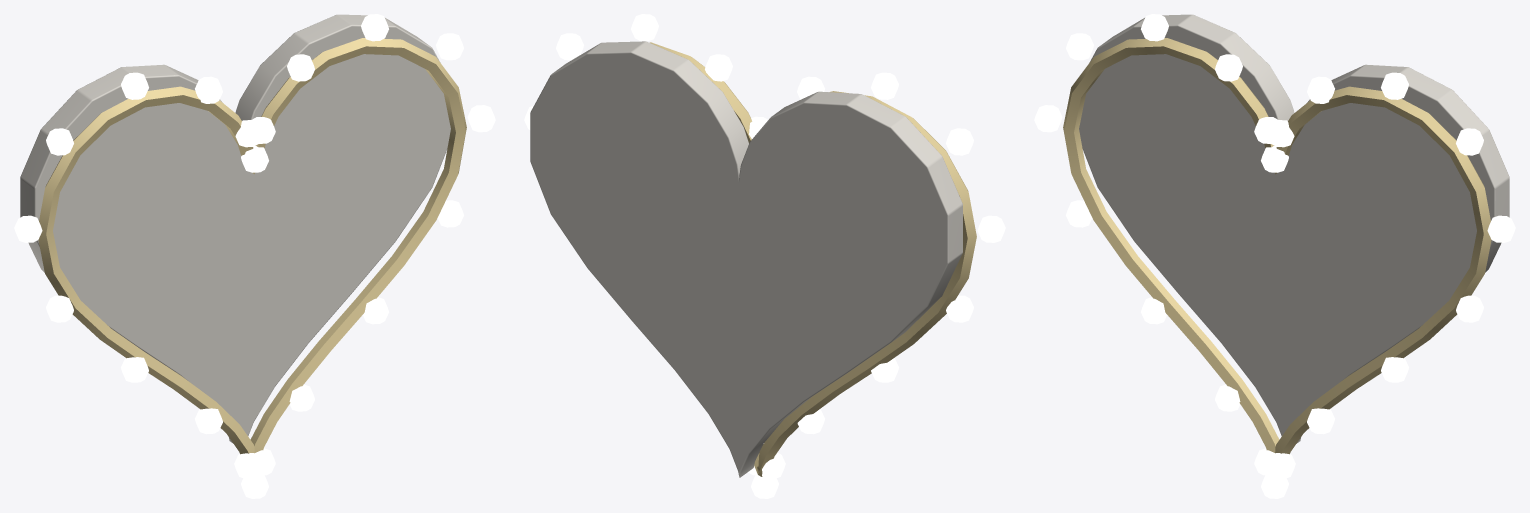
File: sign_marquee_heart.glb
The picture shows the model from 3 angles, left to right: view 1: azimuth 30°, elevation 25°; view 2: azimuth 150°, elevation 25°; view 3: azimuth 330°, elevation 25°; orthographic projection.
Parts seen in each view (by area): view 1: sign_marquee_heart; view 2: sign_marquee_heart; view 3: sign_marquee_heart.
Boxes of the visible parts, left/top/right/bottom form: sign_marquee_heart: left=14, top=14, right=495, bottom=498; sign_marquee_heart: left=524, top=14, right=1005, bottom=498; sign_marquee_heart: left=1034, top=14, right=1515, bottom=498.
Bounding box in the file's own units: 0.903 × 0.8201 × 0.109.
